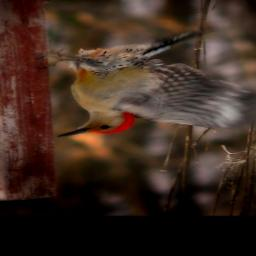Woodpecker: (54, 30, 256, 140)
